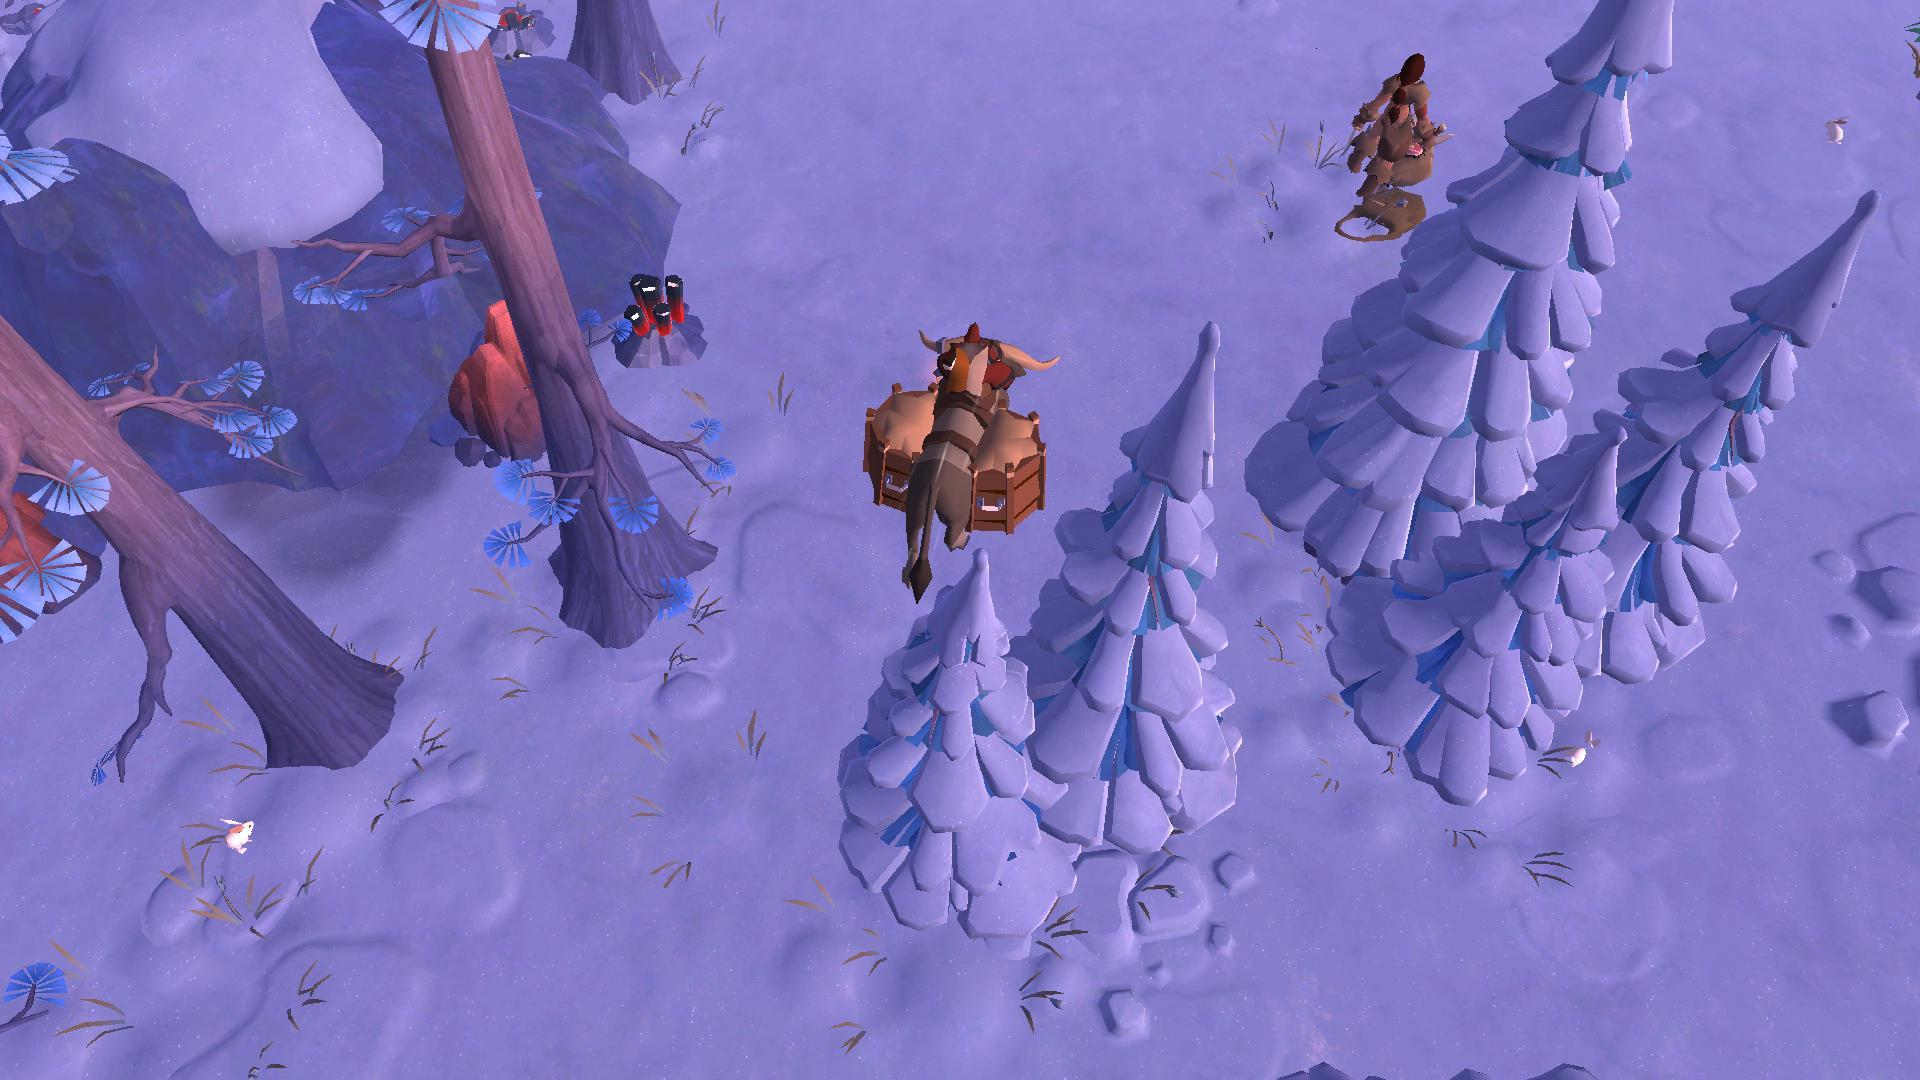enemy_factionKeeper: (1342, 49, 1427, 187)
ore_t5: (616, 260, 691, 348)
rock_t5: (444, 297, 588, 473), (0, 483, 103, 620)
